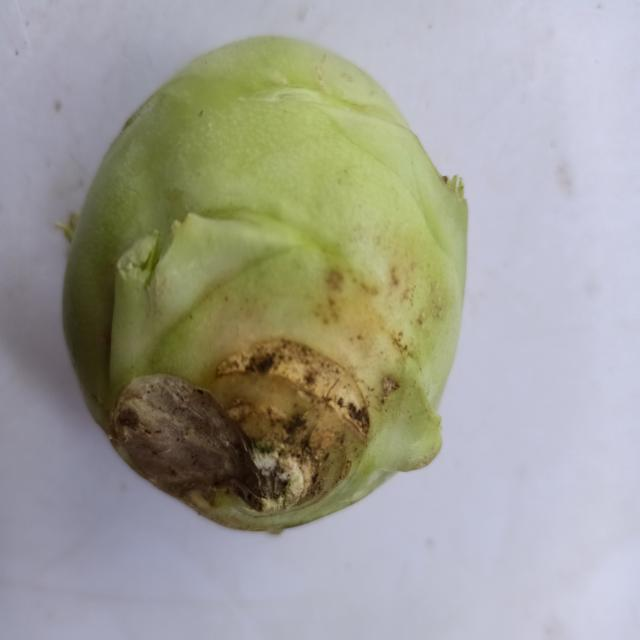Turnip: (49, 24, 488, 556)
